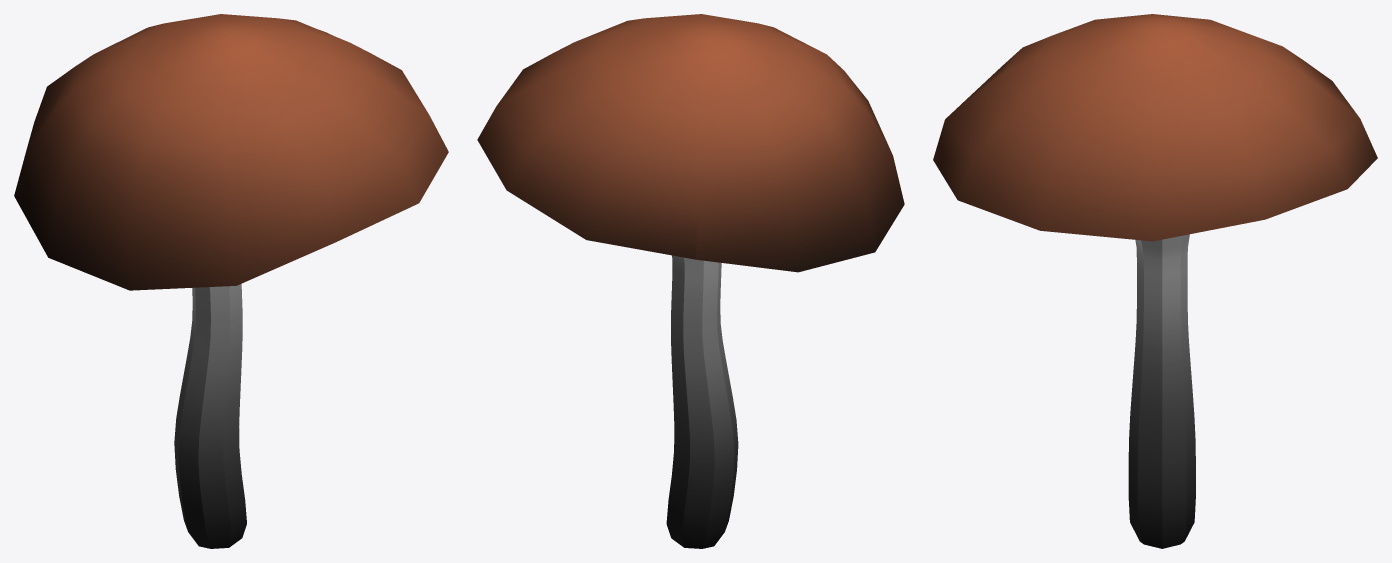
Rendered from mushroom13.fbx.
3 views of the same model, side by side, from view 1: azimuth 30°, elevation 25°; view 2: azimuth 150°, elevation 25°; view 3: azimuth 270°, elevation 25° (orthographic). The views are drawn at different scales.
Visible parts, largest first — view 1: mushroom1; view 2: mushroom1; view 3: mushroom1.
Boxes of the visible parts, x1=… form: mushroom1: x1=14, y1=14, x2=448, y2=548; mushroom1: x1=477, y1=14, x2=904, y2=548; mushroom1: x1=933, y1=14, x2=1377, y2=548.
Bounding box in the file's own units: 57.08 × 75.46 × 58.39.
